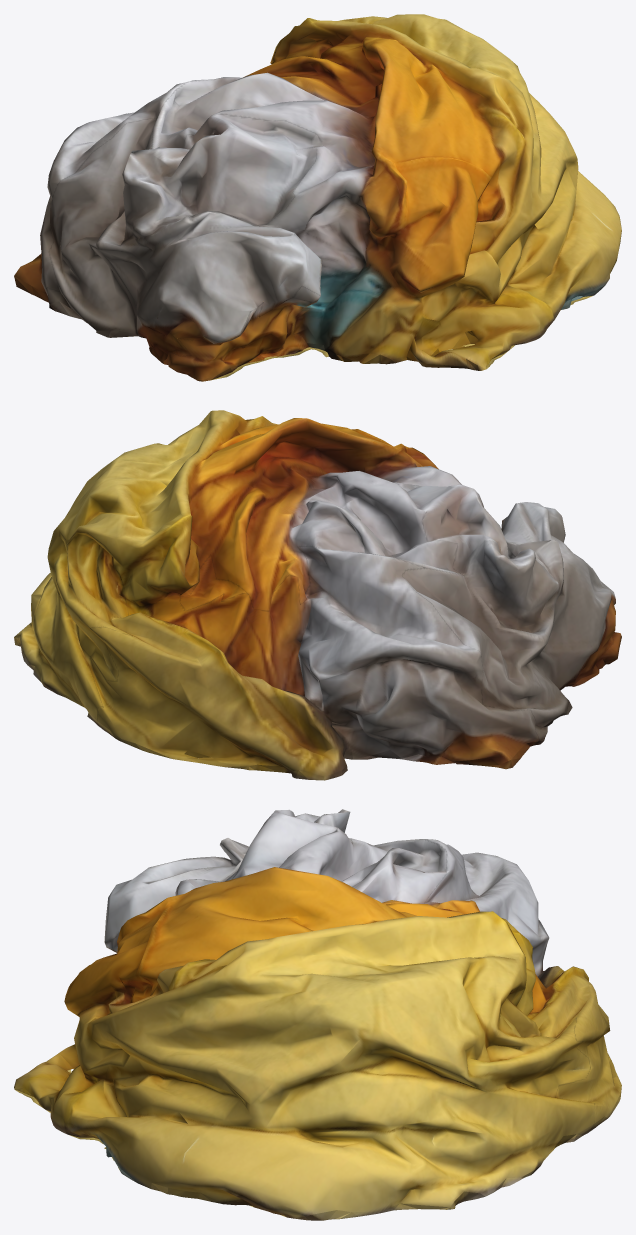
Rendered from lowpoly.fbx.
3 views of the same model, one above another, from view 1: azimuth 30°, elevation 25°; view 2: azimuth 150°, elevation 25°; view 3: azimuth 270°, elevation 25° (orthographic). The views are drawn at different scales.
Visible parts, largest first — view 1: clothes; view 2: clothes; view 3: clothes.
Boxes of the visible parts, x1=… form: clothes: x1=14, y1=14, x2=621, y2=381; clothes: x1=14, y1=410, x2=621, y2=780; clothes: x1=14, y1=809, x2=621, y2=1220.
Size of the model in its own units: 337 by 133 by 313.
